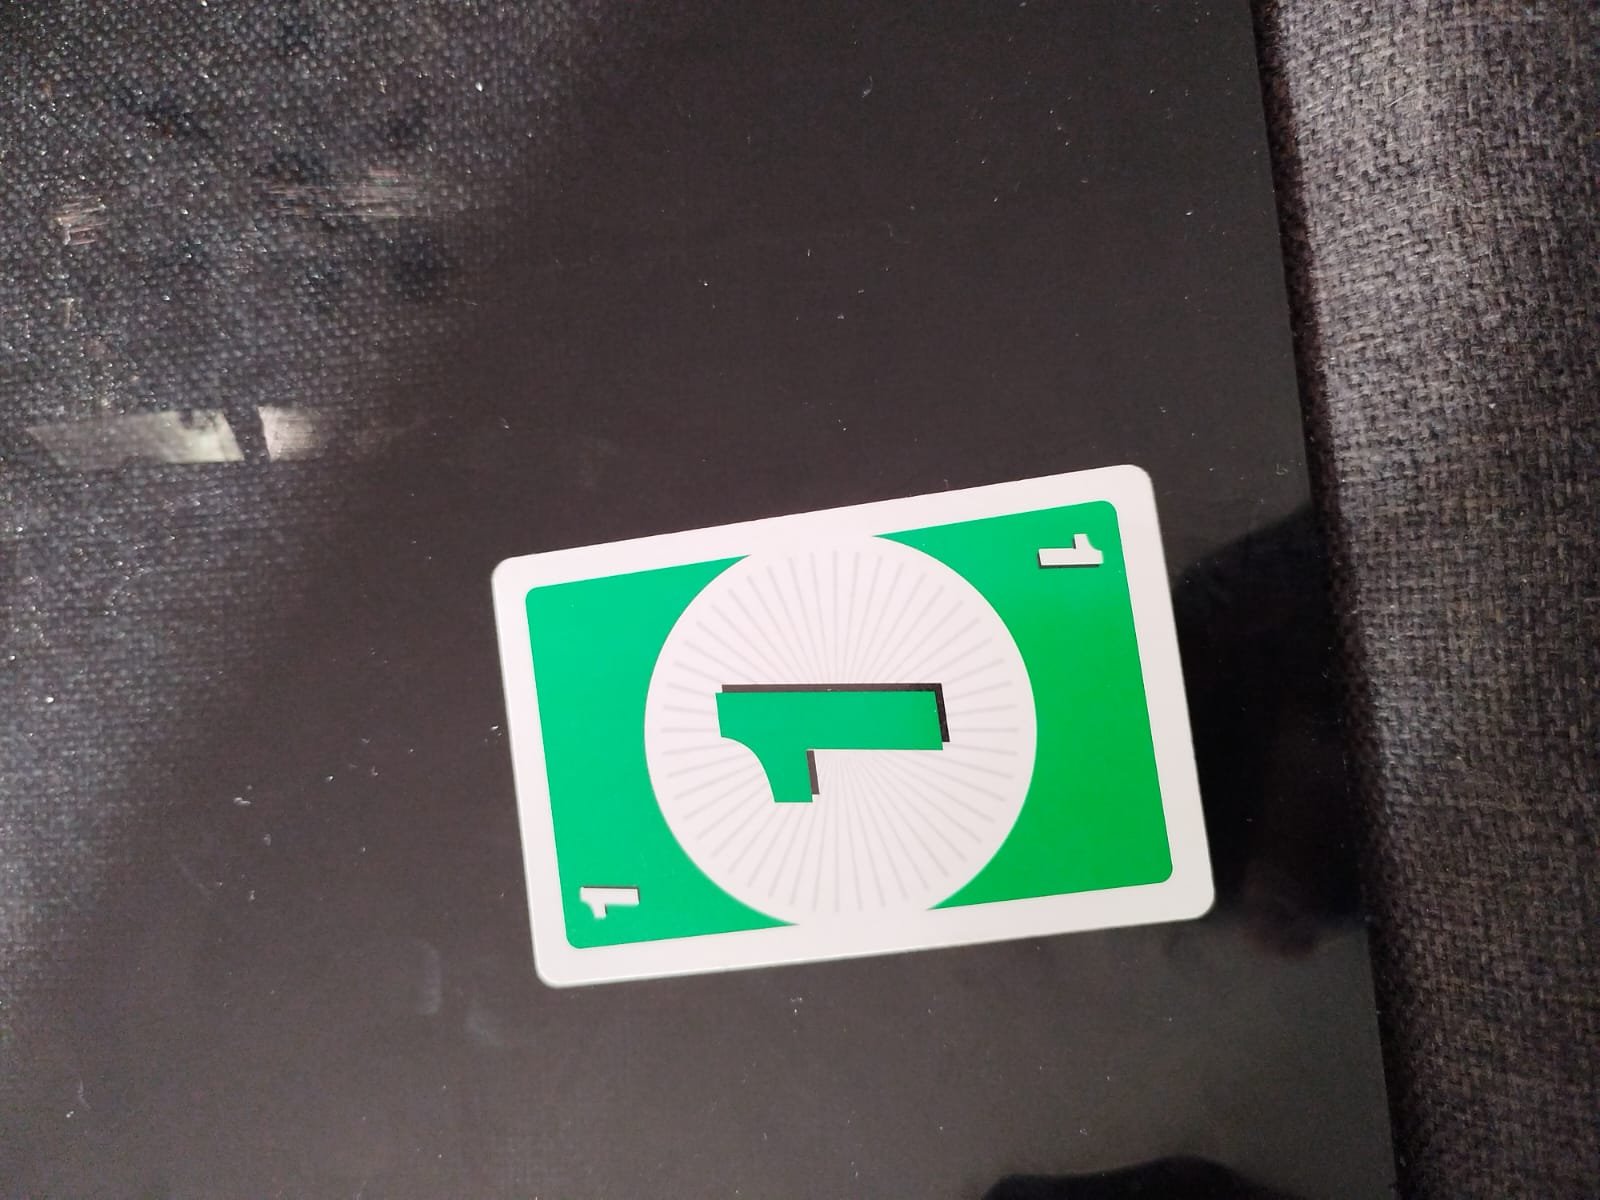7_yellow: (702, 678, 968, 808), (1023, 531, 1109, 587), (576, 875, 648, 930)
